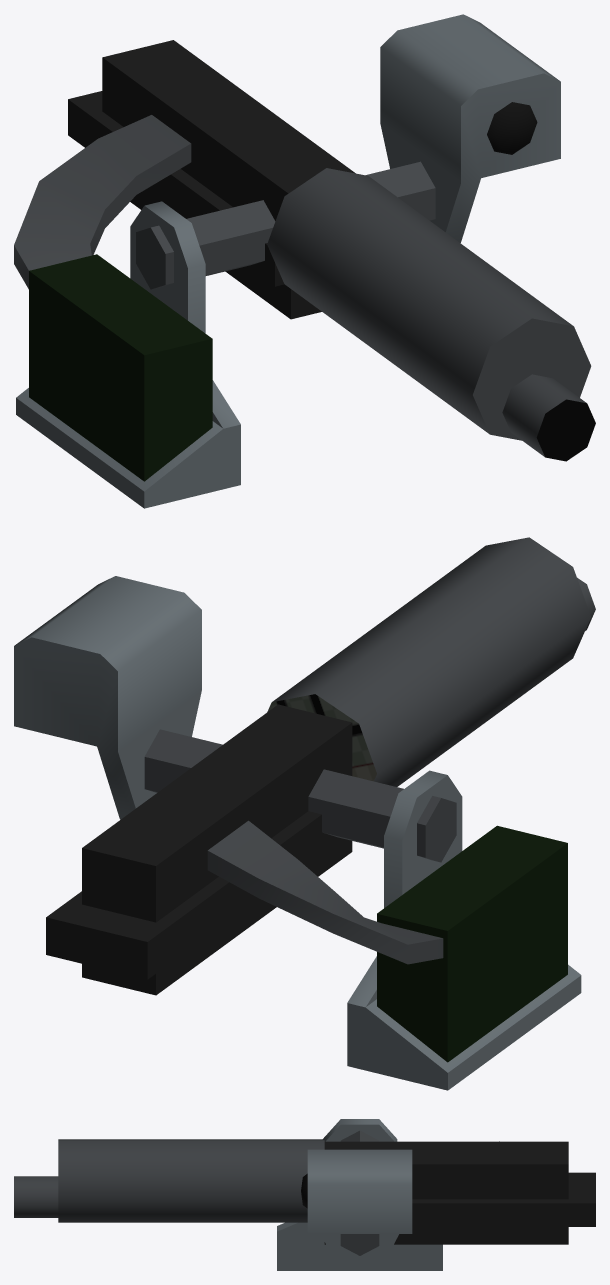
Rendered from TurretGun.glb.
3 renders of one model, top to bottom at view 1: azimuth 30°, elevation 25°; view 2: azimuth 150°, elevation 25°; view 3: azimuth 270°, elevation 25°, orthographic. The views are drawn at different scales.
Visible parts, largest first — view 1: obj1; view 2: obj1; view 3: obj1.
Boxes of the visible parts, x1,y1,x2,y2 form: obj1: [14, 14, 595, 508]; obj1: [14, 537, 595, 1090]; obj1: [14, 1119, 595, 1270].
Size of the model in its own units: 0.0742 by 0.0506 by 0.1312.
Materials: 7 (1 with a texture image).
